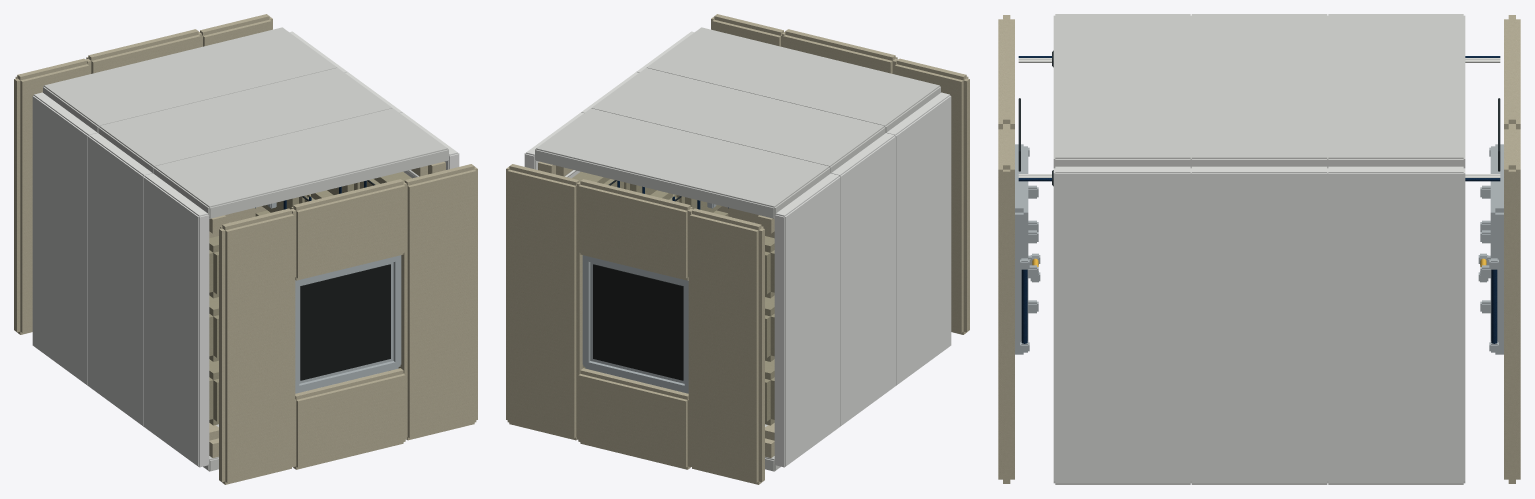
Rendered from kibo_elm_optimized.glb.
3 renders of one model, left to right at view 1: azimuth 30°, elevation 25°; view 2: azimuth 150°, elevation 25°; view 3: azimuth 270°, elevation 25°, orthographic. The views are drawn at different scales.
Visible parts, largest first — view 1: kibo_elm_interior; view 2: kibo_elm_interior; view 3: kibo_elm_interior.
Part boxes in pixels (x1=…): kibo_elm_interior: x1=14, y1=14, x2=477, y2=484; kibo_elm_interior: x1=506, y1=14, x2=969, y2=484; kibo_elm_interior: x1=998, y1=14, x2=1520, y2=484.
Bounding box in the file's own units: 3.09 × 3 × 4.34.
11 materials, 3 textured.
